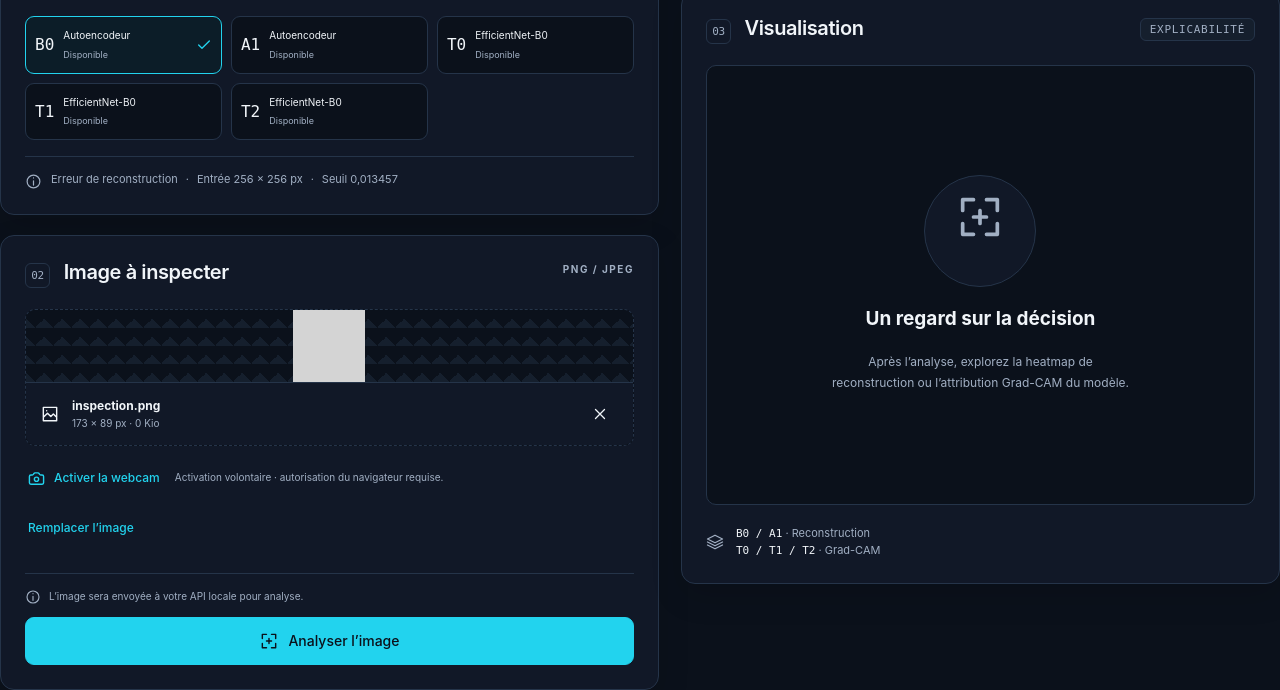
it: parcours Inspection › affiche les erreurs backend et leur identifiant sans résultat inventé
Earlier steps of the test are not shown.
(page scrolled)
Click the button "Analyser l’image". click: [329, 641]
box: [25, 617, 634, 665]
(page scrolled)
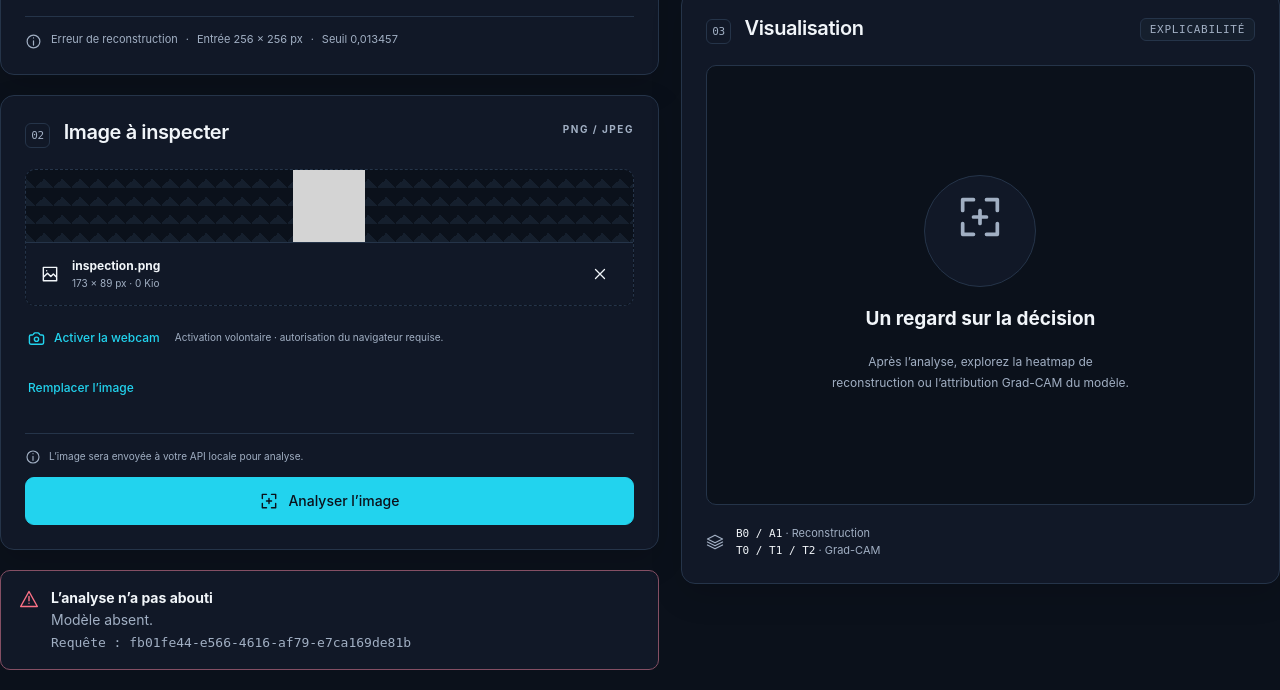
Expected: the text "Modèle absent." is shown, [51, 612, 153, 628]
